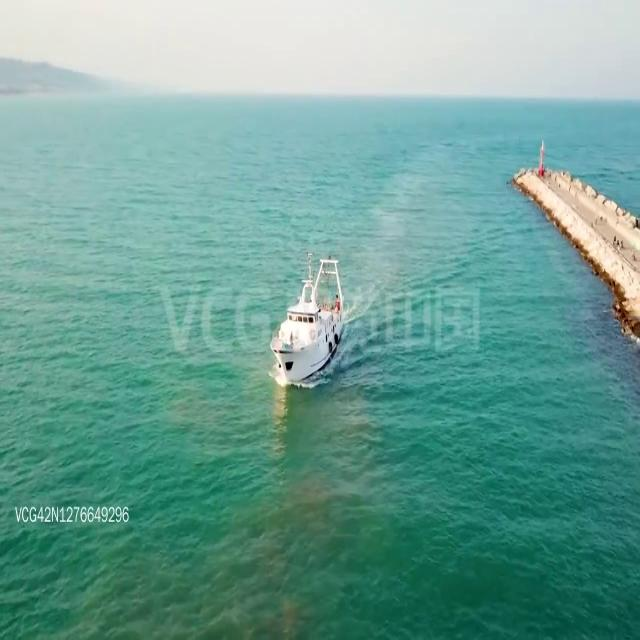houseboat: (270, 250, 348, 382)
